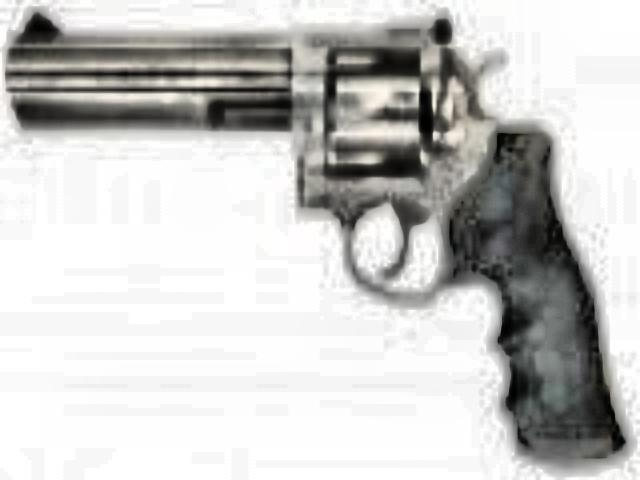pistol: (12, 4, 628, 460)
